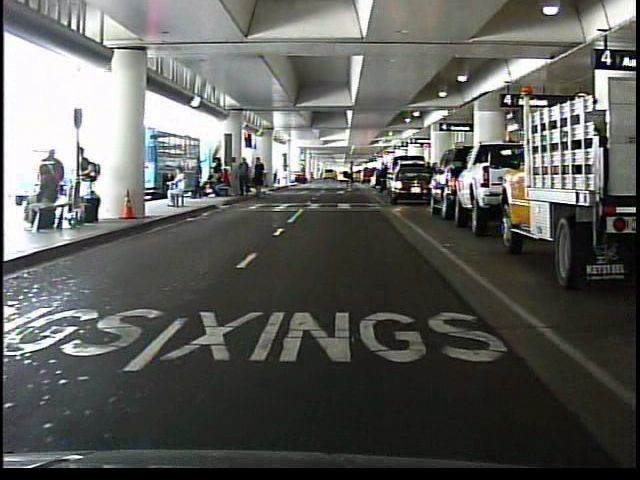person: (163, 169, 191, 212), (340, 159, 362, 194), (192, 156, 206, 201), (372, 158, 388, 197)
